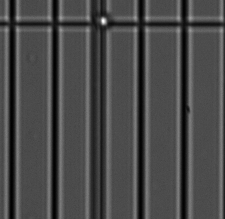Living Cell: (95, 13, 112, 29)
